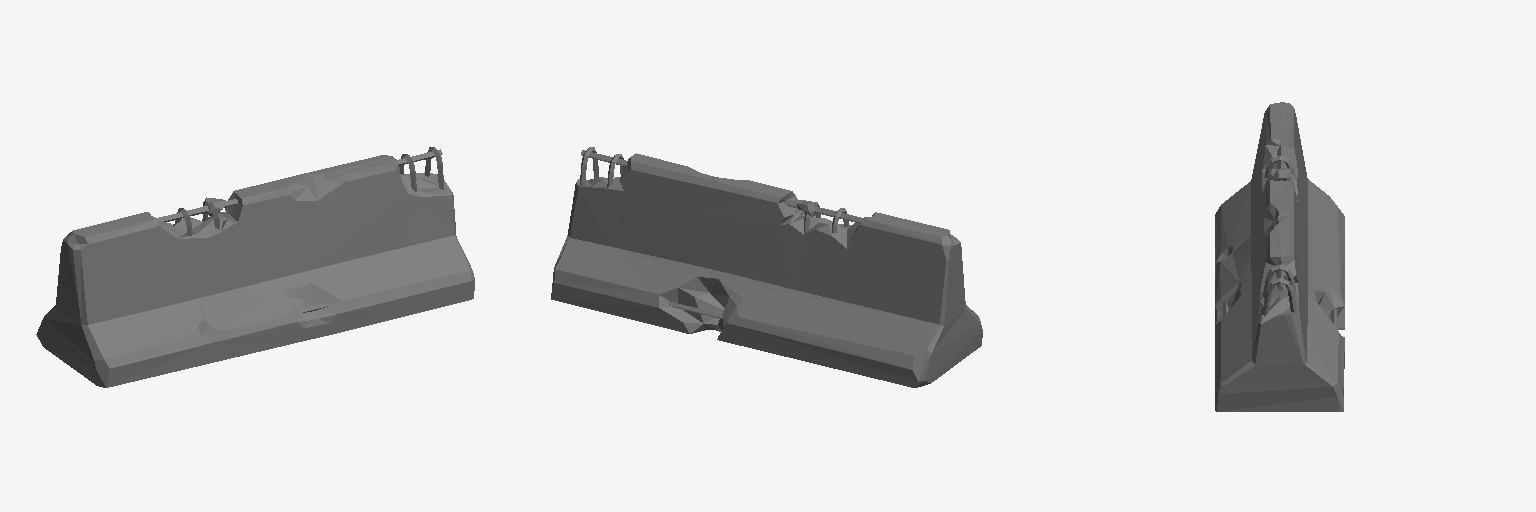
File: concrete_roadblock.obj
3 views of the same model, side by side, from view 1: azimuth 30°, elevation 25°; view 2: azimuth 150°, elevation 25°; view 3: azimuth 270°, elevation 25° (orthographic).
Visible parts, largest first — view 1: concrete_roadblock_01; view 2: concrete_roadblock_01; view 3: concrete_roadblock_01.
Part boxes in pixels (bbox=[...]): concrete_roadblock_01: bbox=[36, 147, 474, 387]; concrete_roadblock_01: bbox=[551, 147, 982, 387]; concrete_roadblock_01: bbox=[1215, 102, 1344, 411].
Bounding box in the file's own units: 7.72 × 2.6 × 2.32.